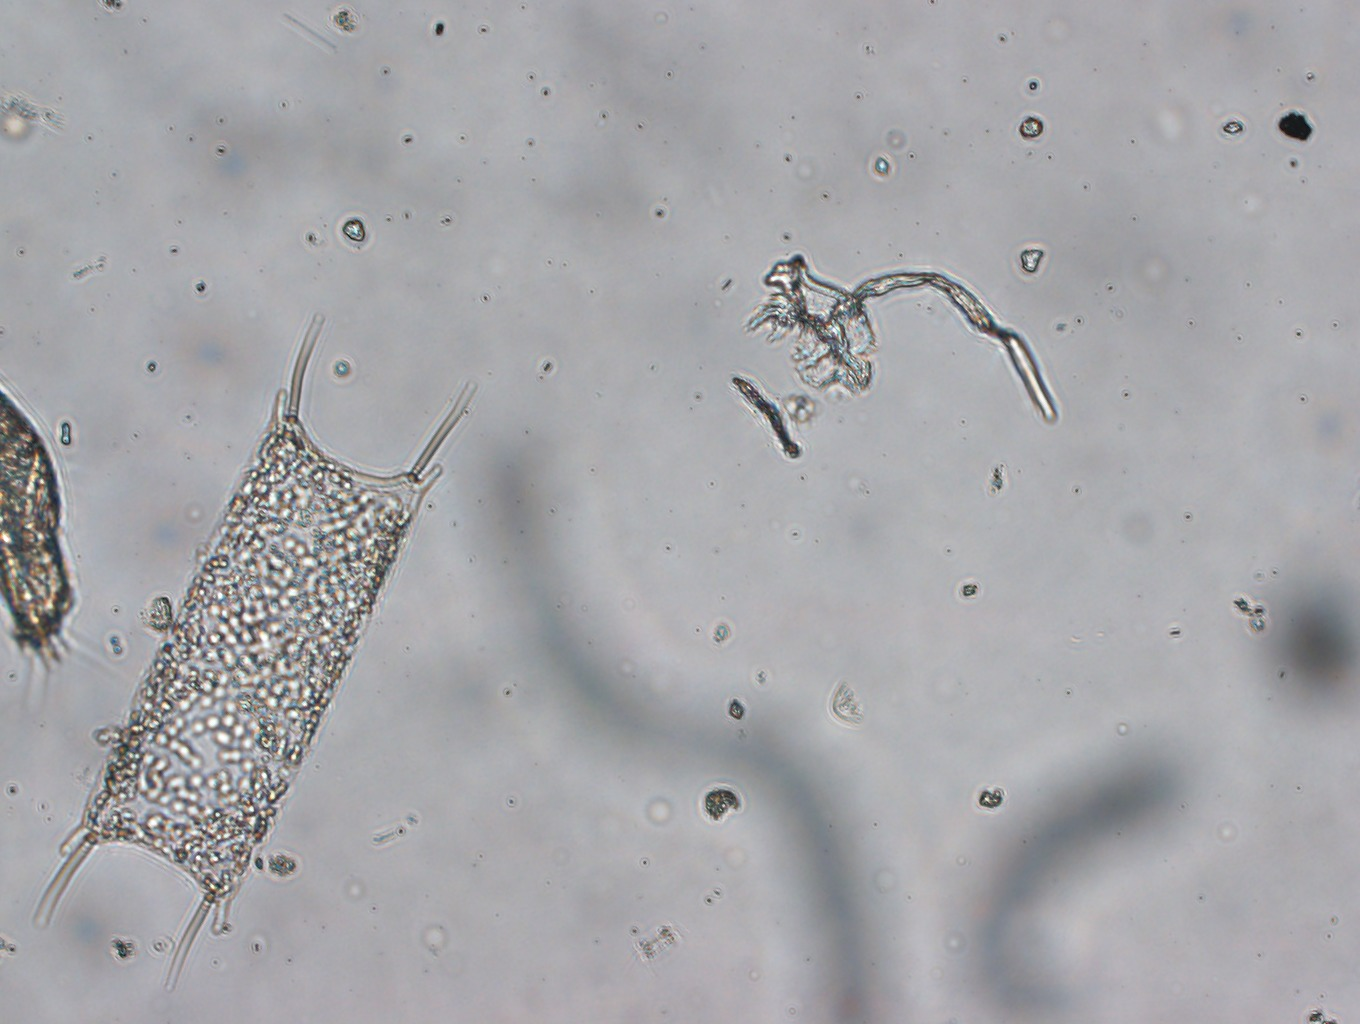biddulphia: (30, 305, 482, 992)
